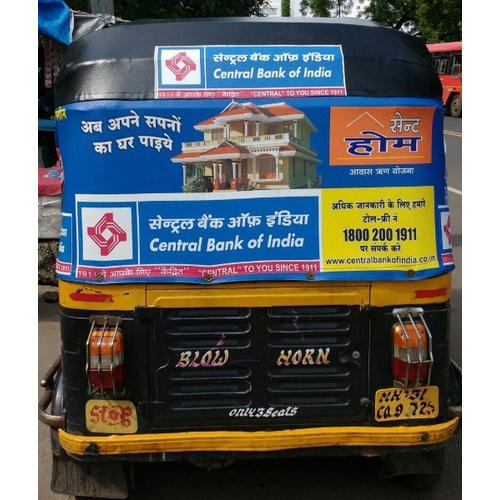autorickshaw: (41, 17, 463, 495)
